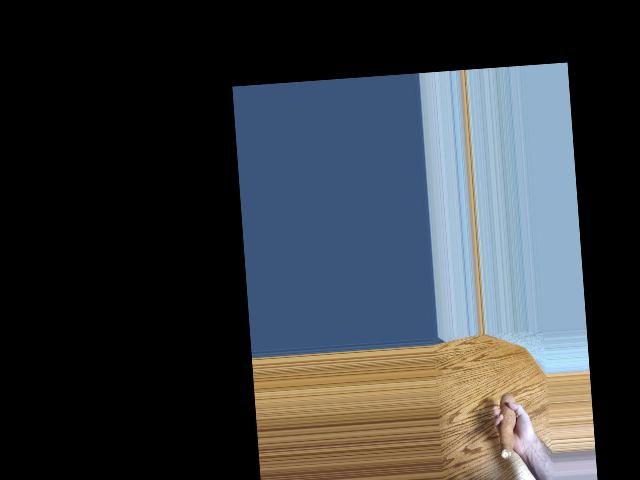sweet_potato: (494, 389, 515, 461)
